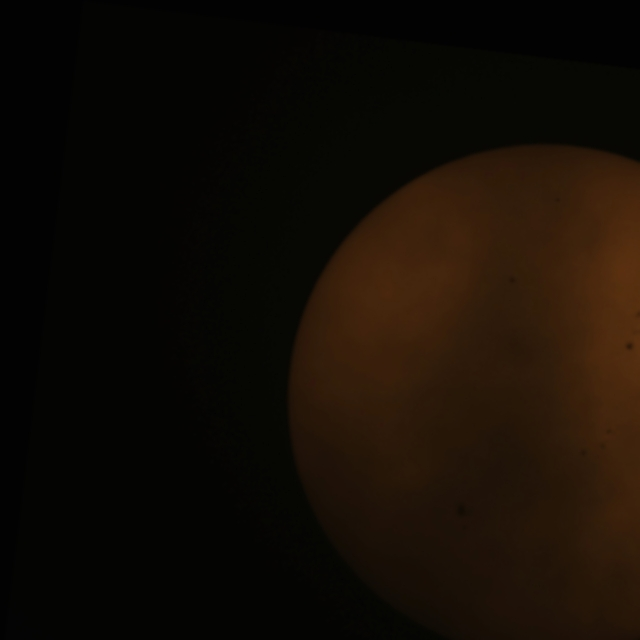sunspot: (624, 340, 636, 352), (635, 308, 640, 322)
